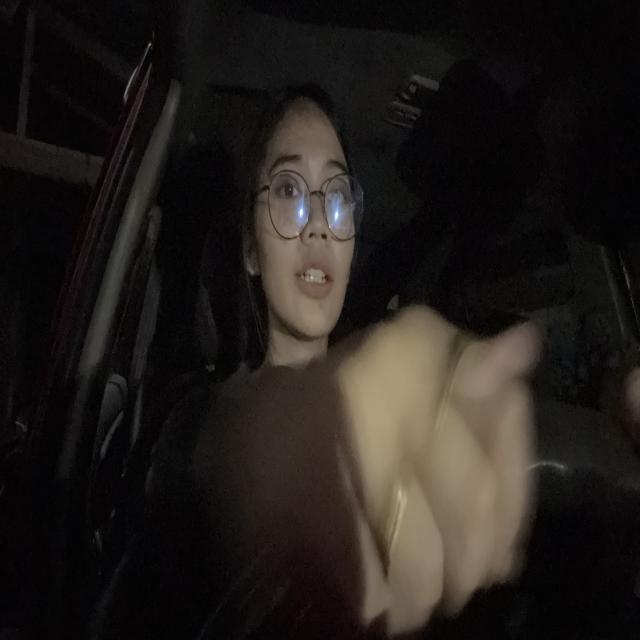open: (264, 146, 304, 212), (324, 155, 350, 223)
